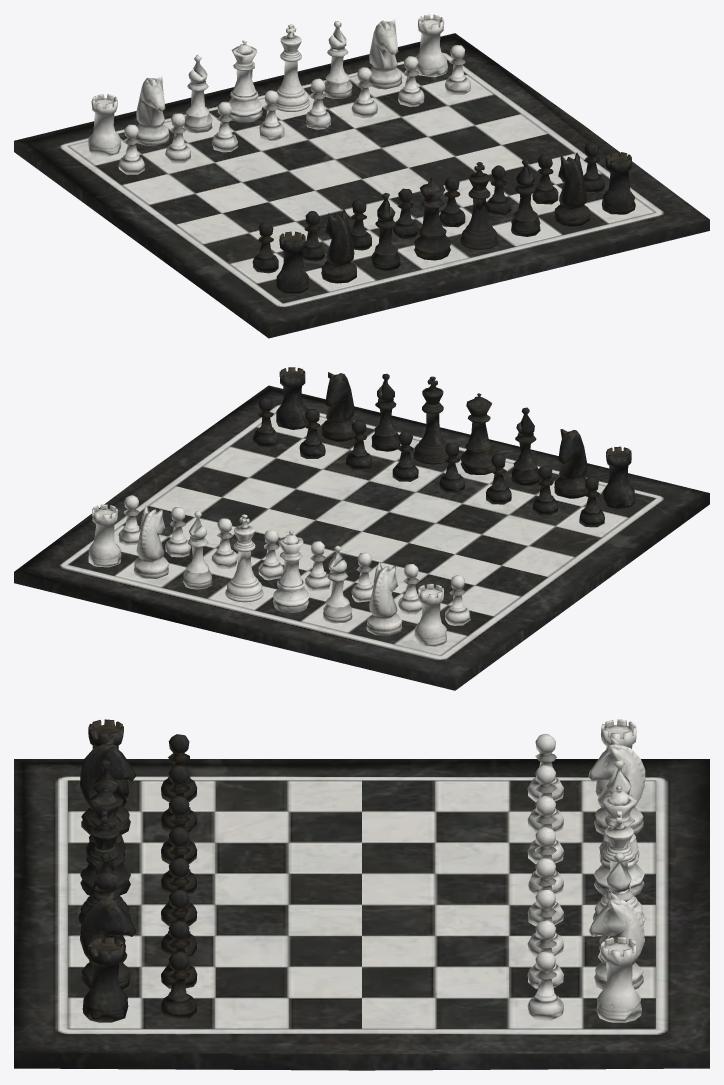
File: chess_set.glb
3 views of the same model, one above another, from view 1: azimuth 30°, elevation 25°; view 2: azimuth 150°, elevation 25°; view 3: azimuth 270°, elevation 25° (orthographic). The views are drawn at different scales.
Visible parts, largest first — view 1: board, piece_rook_white_01, piece_rook_black_01, piece_king_black, piece_king_white; view 2: board, piece_rook_black_01, piece_rook_white_01, piece_king_white, piece_king_black; view 3: board, piece_rook_black_01, piece_rook_white_01, piece_king_black, piece_king_white.
Boxes of the visible parts, left/top/right/bottom form: board: left=14, top=33, right=709, bottom=338; piece_rook_white_01: left=88, top=14, right=470, bottom=174; piece_rook_black_01: left=252, top=142, right=635, bottom=293; piece_king_black: left=460, top=162, right=498, bottom=249; piece_king_white: left=276, top=24, right=310, bottom=111; board: left=14, top=385, right=709, bottom=690; piece_rook_black_01: left=252, top=367, right=635, bottom=527; piece_rook_white_01: left=88, top=495, right=470, bottom=646; piece_king_white: left=225, top=514, right=263, bottom=602; piece_king_black: left=413, top=376, right=448, bottom=464; board: left=14, top=759, right=709, bottom=1070; piece_rook_black_01: left=80, top=719, right=197, bottom=1022; piece_rook_white_01: left=527, top=719, right=645, bottom=1022; piece_king_black: left=78, top=810, right=130, bottom=923; piece_king_white: left=593, top=810, right=645, bottom=922.
Size of the model in its own units: 0.5507 by 0.1115 by 0.5482.
3 materials, 3 textured.
